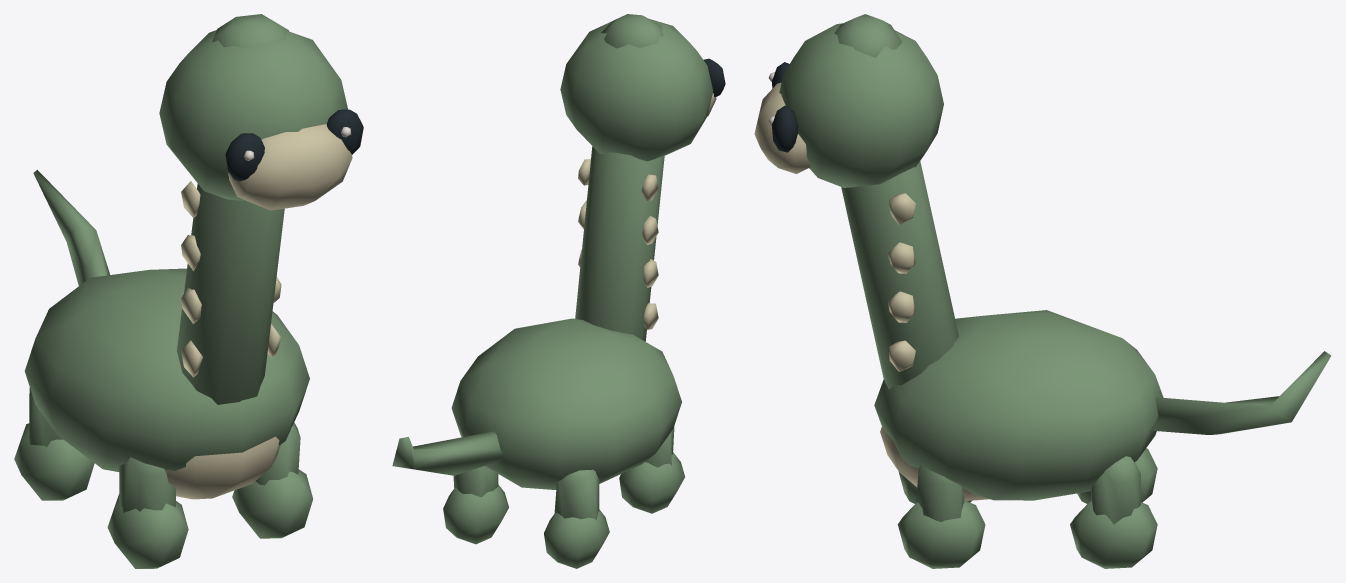
The model's file is org_brachiosaurus.glb.
The picture shows the model from 3 angles, left to right: view 1: azimuth 30°, elevation 25°; view 2: azimuth 150°, elevation 25°; view 3: azimuth 270°, elevation 25°; orthographic projection. The views are drawn at different scales.
Parts seen in each view (by area): view 1: Body, Head, Leg_FR, Leg_FL, Leg_BR, Tail, Eye_R, Eye_L; view 2: Body, Head, Leg_BR, Leg_BL, Tail, Leg_FR, Eye_R; view 3: Body, Head, Leg_BL, Leg_FL, Tail, Eye_L, Leg_BR.
Part boxes in pixels (x1,y1,x2,y2): Body: [24, 181, 309, 499]; Head: [159, 14, 352, 210]; Leg_FR: [107, 457, 188, 568]; Leg_FL: [232, 422, 312, 538]; Leg_BR: [14, 387, 94, 500]; Tail: [33, 169, 109, 285]; Eye_R: [225, 133, 264, 181]; Eye_L: [327, 109, 363, 154]; Body: [451, 146, 681, 489]; Head: [560, 14, 716, 161]; Leg_BR: [544, 469, 609, 568]; Leg_BL: [443, 466, 508, 544]; Tail: [392, 431, 503, 475]; Leg_FR: [619, 426, 684, 513]; Eye_R: [703, 58, 725, 97]; Body: [841, 161, 1163, 500]; Head: [754, 14, 943, 187]; Leg_BL: [1070, 456, 1157, 568]; Leg_FL: [897, 464, 985, 568]; Tail: [1152, 351, 1331, 434]; Eye_L: [768, 105, 798, 152]; Leg_BR: [1077, 448, 1157, 503].
Bounding box in the file's own units: 1.33 × 3 × 3.02.
